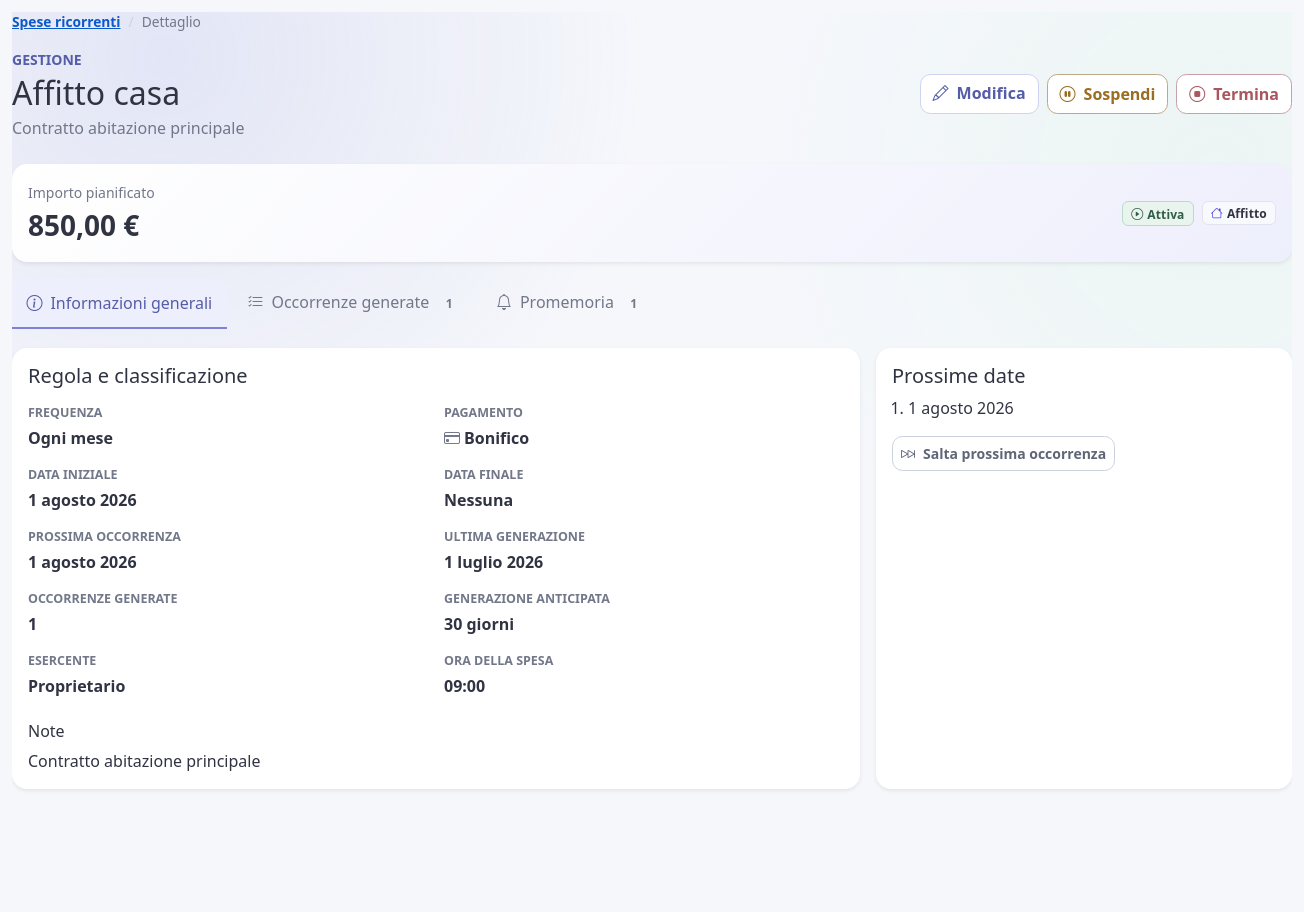
Test: RecurrenceDetailComponent › separa informazioni, occorrenze e promemoria in tab accessibili
Click the tab with id "recurrence-tab-occurrences": (354, 304) left=233, top=278, right=475, bottom=329
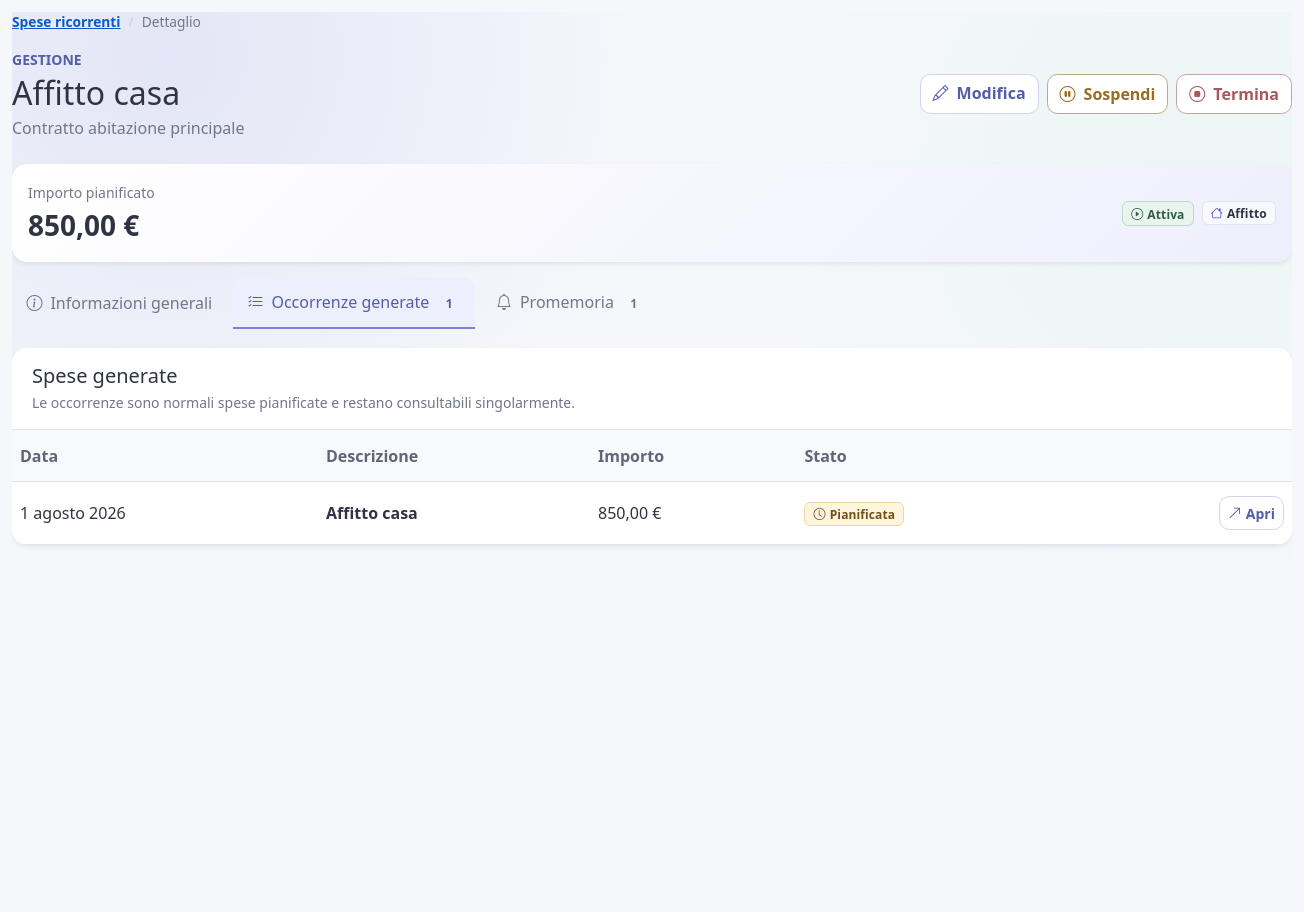
Check: the text "Affitto casa" is shown, box left=12, top=71, right=180, bottom=114
Check: the panel with id "recurrence-panel-occurrences" is shown, box left=12, top=348, right=1292, bottom=545
Click the tab with id "recurrence-tab-reminders": (571, 304) left=482, top=278, right=660, bottom=329
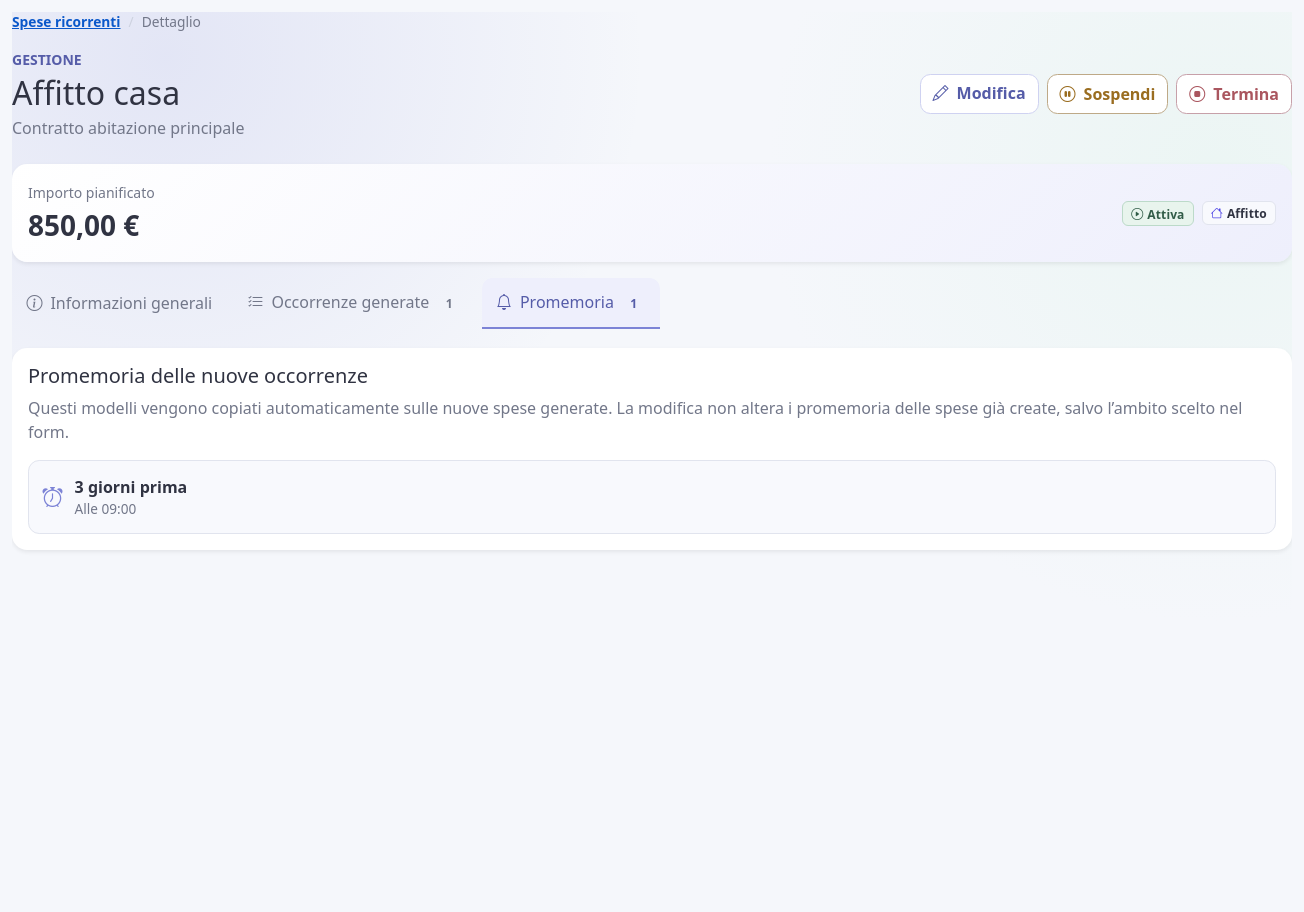
Check: the panel with id "recurrence-panel-reminders" is shown, box left=12, top=348, right=1292, bottom=550
Check: the text "3 giorni prima" is shown, box left=75, top=476, right=187, bottom=498
